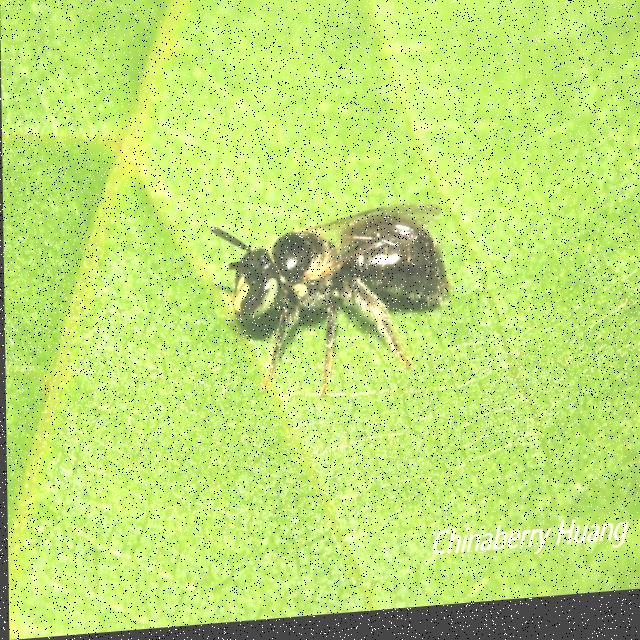Allodapula: (206, 185, 462, 389)
